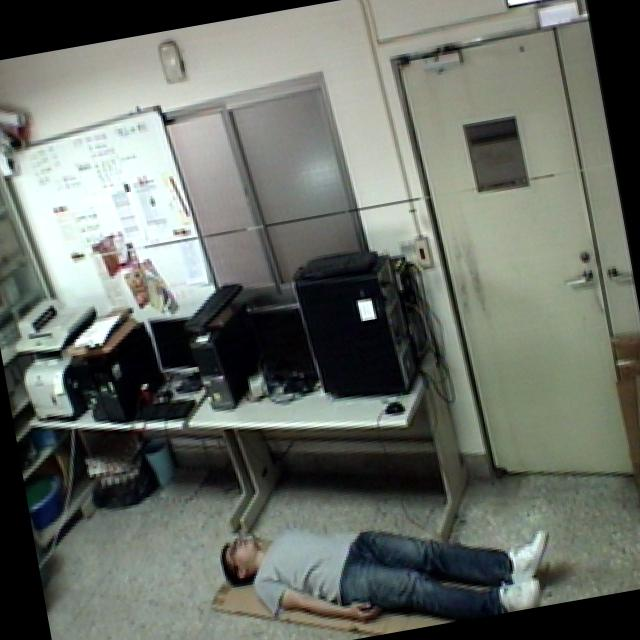lie: (205, 452, 564, 640)
